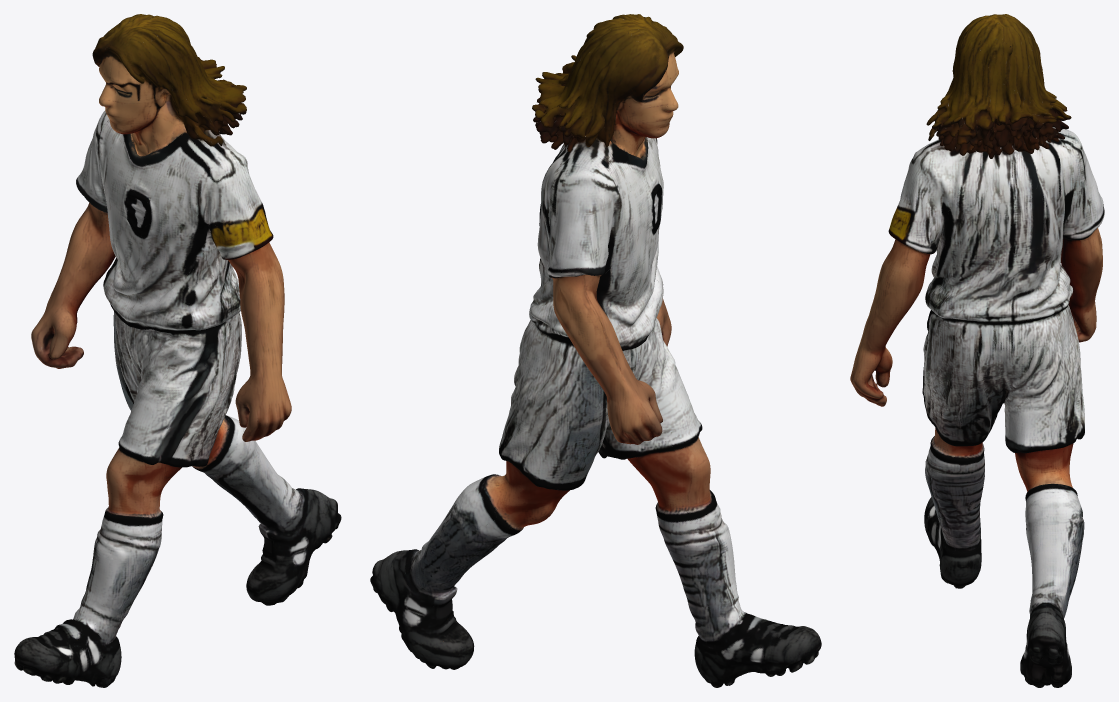
Rendered from HRAC2.glb.
3 renders of one model, left to right at view 1: azimuth 30°, elevation 25°; view 2: azimuth 150°, elevation 25°; view 3: azimuth 270°, elevation 25°, orthographic. The views are drawn at different scales.
Parts seen in each view (by area): view 1: world; view 2: world; view 3: world.
Part boxes in pixels (left/top/right/bottom): world: left=14, top=14, right=341, bottom=687; world: left=370, top=14, right=821, bottom=687; world: left=850, top=14, right=1104, bottom=687.
Size of the model in its own units: 0.6134 by 1 by 0.3861.
Materials: 1 (1 with a texture image).
